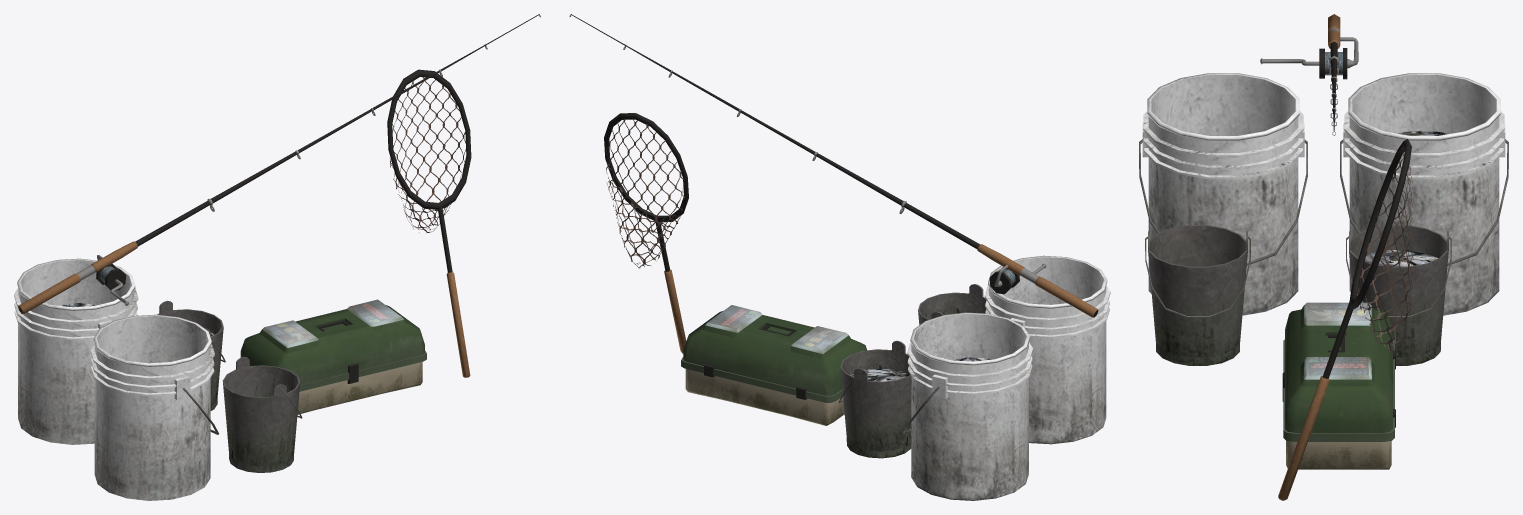
File: aparejos.glb
The picture shows the model from 3 angles, left to right: view 1: azimuth 30°, elevation 25°; view 2: azimuth 150°, elevation 25°; view 3: azimuth 270°, elevation 25°; orthographic projection. The views are drawn at different scales.
Visible parts, largest first — view 1: Object_4; view 2: Object_4; view 3: Object_4.
Boxes of the visible parts, bbox=[...] form: Object_4: bbox=[14, 14, 540, 500]; Object_4: bbox=[569, 14, 1110, 500]; Object_4: bbox=[1139, 14, 1508, 500].
Size of the model in its own units: 124 by 74.2 by 58.
Materials: 1 (1 with a texture image).
